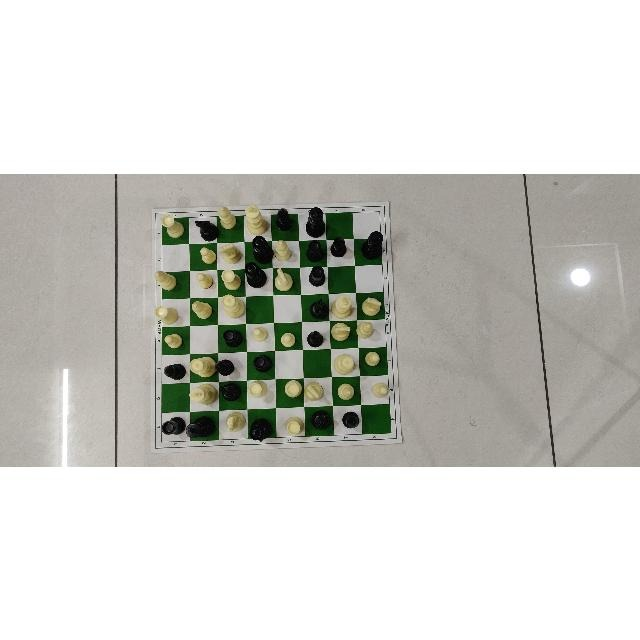black-bishop: (274, 206, 294, 230), (162, 361, 186, 380), (341, 408, 361, 429), (330, 234, 348, 257), (214, 357, 235, 376), (306, 330, 325, 348)
black-king: (184, 413, 218, 437), (304, 207, 326, 235)
black-knight: (195, 219, 221, 240), (308, 297, 330, 318), (311, 408, 333, 429), (221, 381, 243, 401)
black-queen: (360, 229, 384, 261), (244, 262, 268, 288), (251, 235, 273, 263), (248, 417, 271, 441)
black-rook: (304, 239, 326, 262), (252, 353, 272, 373), (308, 265, 326, 286), (223, 329, 243, 346)
white-bishop: (191, 298, 215, 320), (154, 269, 177, 291), (217, 204, 237, 229), (273, 238, 292, 261), (356, 319, 374, 338)
white-king: (245, 204, 269, 235), (191, 381, 219, 407)
white-knight: (271, 268, 295, 294), (303, 381, 326, 403), (220, 243, 244, 264), (361, 294, 383, 316), (224, 412, 247, 432), (331, 321, 351, 343)
white-pawn: (161, 331, 185, 348), (197, 243, 216, 264), (194, 272, 216, 290), (363, 348, 382, 368), (279, 330, 297, 350), (372, 381, 390, 397), (251, 327, 268, 343)
white-queen: (190, 355, 218, 378), (222, 294, 246, 318), (333, 353, 356, 375)
white-rook: (161, 214, 184, 239), (220, 268, 243, 290), (155, 304, 180, 324), (284, 378, 303, 400), (286, 417, 306, 436), (248, 379, 266, 396)
